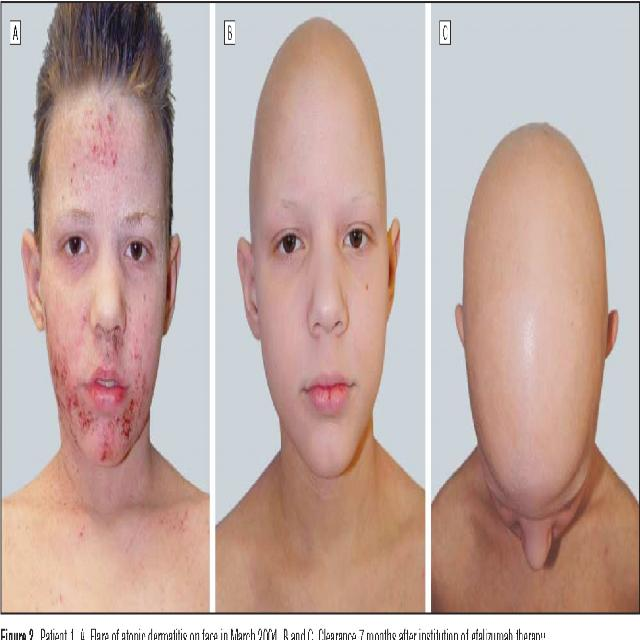eczema: (71, 107, 134, 194), (48, 334, 82, 454), (129, 320, 150, 456), (83, 404, 132, 462), (95, 338, 124, 377)
